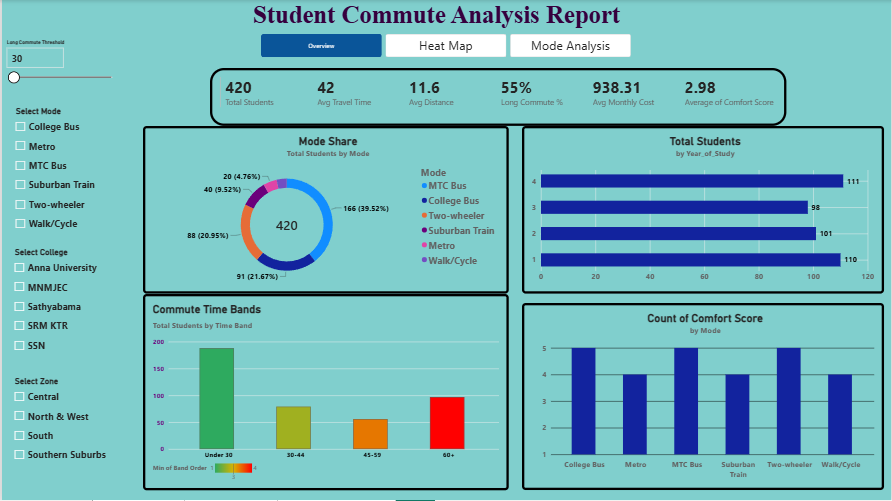

The page's visual inventory and layout, read from the dashboard file:
{"tool":"powerbi","page":{"name":"Overview","canvas":[1920,1080],"ordinal":0},"visuals":[{"type":"slicer","fields":{"Values":["Modes.Mode"]},"box":[21.7,229.8,209.9,278.7],"z":0},{"type":"slicer","fields":{"Values":["Colleges.College"]},"box":[20,534,211.7,242.5],"z":1000},{"type":"slicer","fields":{"Values":["Areas.Zone"]},"box":[20,812,215.3,215.3],"z":2000},{"type":"slicer","fields":{"Values":["Long Commute Threshold .Long Commute Threshold "]},"box":[1.8,85.1,252,124],"z":3000},{"type":"multiRowCard","fields":{"Values":["_Measures.Total Students","_Measures.Avg Travel Time","_Measures.Avg Distance","_Measures.Long Commute %","_Measures.Avg Monthly Cost","Student Data.Comfort Score"]},"box":[448.8,146.6,1245,124.9],"z":4000},{"type":"donutChart","title":"Mode Share","fields":{"Category":["Modes.Mode"],"Y":["_Measures.Total Students"]},"box":[304,271.4,790,362],"z":5000},{"type":"columnChart","title":"Commute Time Bands","fields":{"Category":["Student Data.Time Band"],"Y":["_Measures.Total Students"]},"box":[304,634,790,424],"z":6000},{"type":"clusteredBarChart","fields":{"Category":["Student Data.Year_of_Study"],"Y":["_Measures.Total Students"]},"box":[1123.8,271.4,781.8,361.9],"z":7000},{"type":"clusteredColumnChart","fields":{"Category":["Modes.Mode"],"Y":["Count(Student Data.Comfort Score)"]},"box":[1124,654,782,404],"z":8000},{"type":"pageNavigator","box":[559.2,72.4,800,50],"z":9000},{"type":"textbox","box":[542.9,0,841.5,85.1],"z":9001}]}

Visuals, with their boxes in screenshot pixels (x1, y1, x2, y2), scaled from the page's 1920x1080 canvas onto the 892x501 screenshot:
slicer - Modes.Mode: {"x1": 10, "y1": 107, "x2": 108, "y2": 236}
slicer - Colleges.College: {"x1": 9, "y1": 248, "x2": 108, "y2": 360}
slicer - Areas.Zone: {"x1": 9, "y1": 377, "x2": 109, "y2": 477}
slicer - Long Commute Threshold .Long Commute Threshold : {"x1": 1, "y1": 39, "x2": 118, "y2": 97}
multiRowCard - _Measures.Total Students x _Measures.Avg Travel Time: {"x1": 209, "y1": 68, "x2": 787, "y2": 126}
"Mode Share" donutChart: {"x1": 141, "y1": 126, "x2": 508, "y2": 294}
"Commute Time Bands" columnChart: {"x1": 141, "y1": 294, "x2": 508, "y2": 491}
clusteredBarChart - Student Data.Year_of_Study x _Measures.Total Students: {"x1": 522, "y1": 126, "x2": 885, "y2": 294}
clusteredColumnChart - Modes.Mode x Count(Student Data.Comfort Score): {"x1": 522, "y1": 303, "x2": 885, "y2": 491}
pageNavigator: {"x1": 260, "y1": 34, "x2": 631, "y2": 57}
textbox: {"x1": 252, "y1": 0, "x2": 643, "y2": 39}
